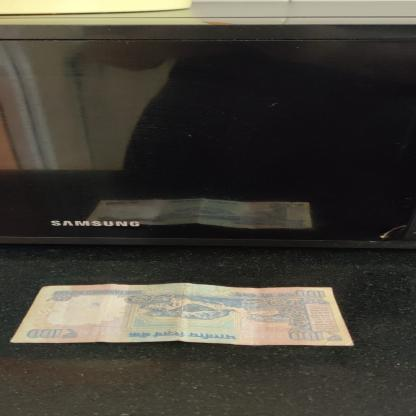Old100Back: (8, 283, 354, 346)
